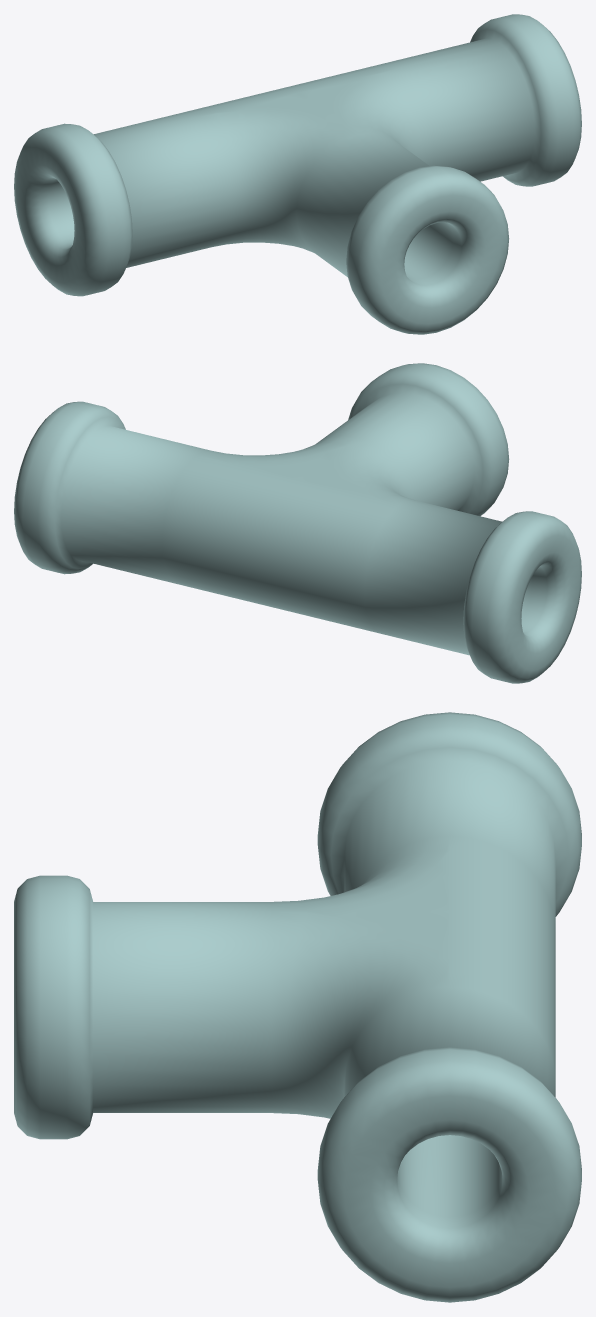
The model's file is LastLuna_Model_Station_Pipe_Tri.fbx.
3 views of the same model, one above another, from view 1: azimuth 30°, elevation 25°; view 2: azimuth 150°, elevation 25°; view 3: azimuth 270°, elevation 25° (orthographic). The views are drawn at different scales.
Parts seen in each view (by area): view 1: Pipe001; view 2: Pipe001; view 3: Pipe001.
Boxes of the visible parts, x1,y1,x2,y2 form: Pipe001: (14, 14, 581, 334); Pipe001: (14, 363, 581, 683); Pipe001: (14, 712, 581, 1302).
Size of the model in its own units: 82.5 by 25 by 53.75.
